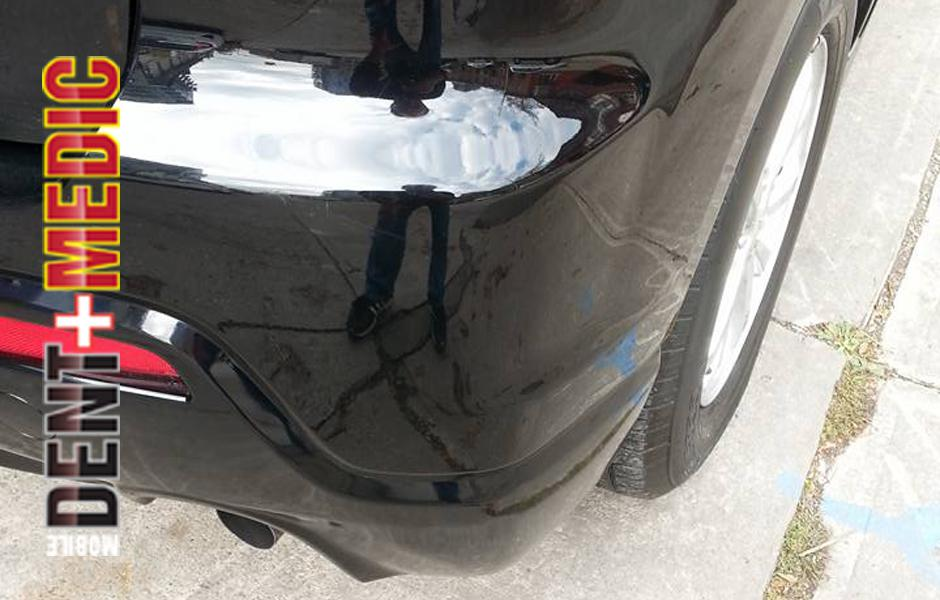rear-bumper-dent: (213, 131, 744, 576)
